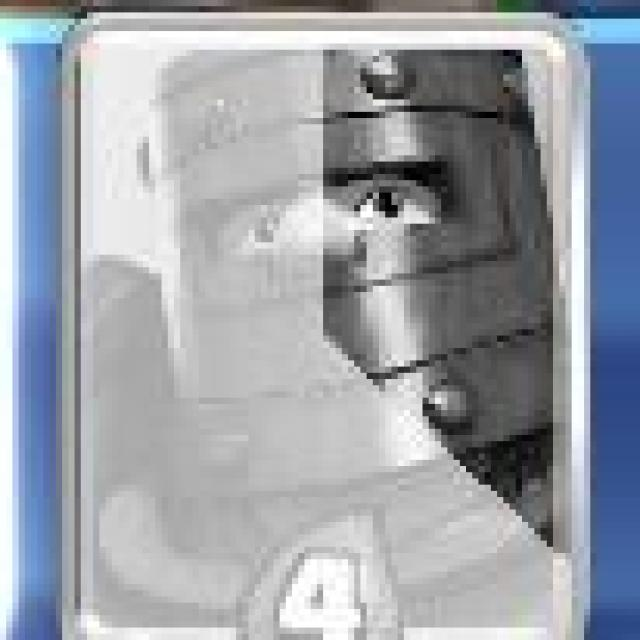Dark_Prince: (56, 0, 596, 640)
